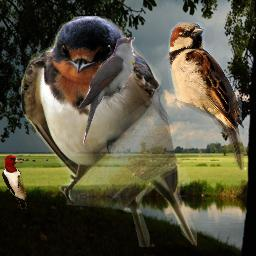Cuckoo: (78, 37, 135, 146)
Swallow: (21, 16, 197, 247), (167, 22, 244, 170)
Woodpecker: (2, 155, 27, 209)
